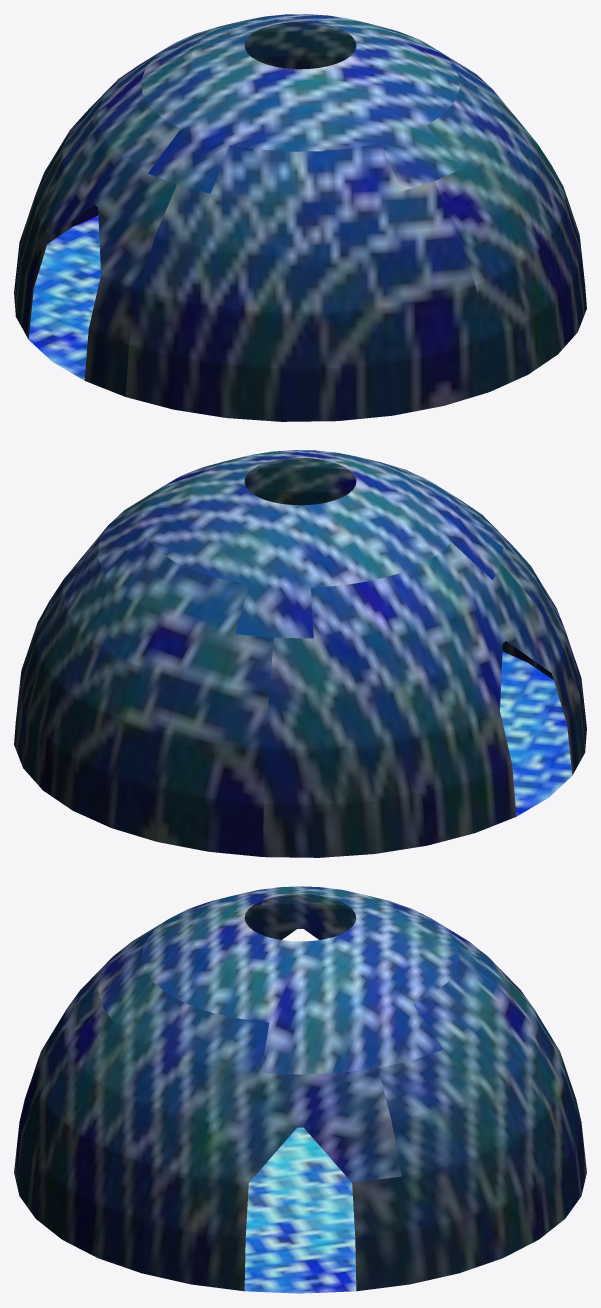
The model's file is brick.dae.
3 renders of one model, top to bottom at view 1: azimuth 30°, elevation 25°; view 2: azimuth 150°, elevation 25°; view 3: azimuth 270°, elevation 25°, orthographic.
Visible parts, largest first — view 1: Sphere; view 2: Sphere; view 3: Sphere.
Part boxes in pixels (<box>): Sphere: <box>14,14,586,421</box>; Sphere: <box>14,450,586,857</box>; Sphere: <box>14,886,586,1293</box>.
Bounding box in the file's own units: 2 × 2 × 0.9808.
Materials: 1 (1 with a texture image).
